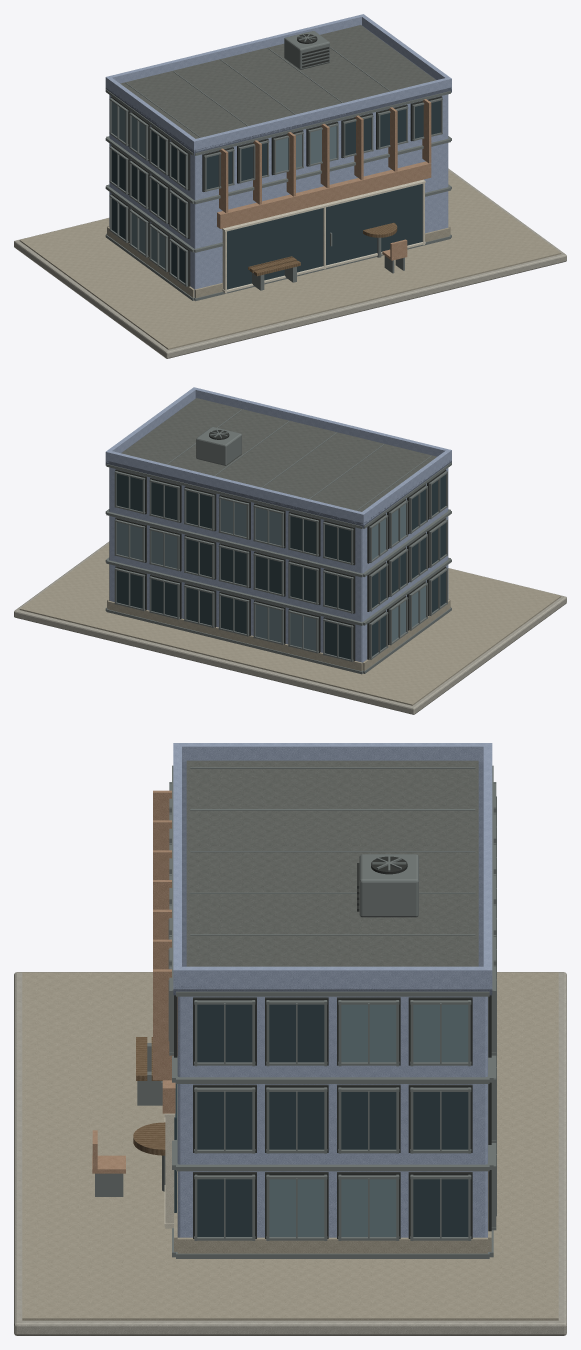
Rendered from EXP_SHOP_DESIGN.glb.
The picture shows the model from 3 angles, top to bottom: view 1: azimuth 30°, elevation 25°; view 2: azimuth 150°, elevation 25°; view 3: azimuth 270°, elevation 25°; orthographic projection. The views are drawn at different scales.
Parts seen in each view (by area): view 1: EXP_SHOP_DESIGN_Visual; view 2: EXP_SHOP_DESIGN_Visual; view 3: EXP_SHOP_DESIGN_Visual.
Part boxes in pixels (x1,y1,x2,y2): EXP_SHOP_DESIGN_Visual: [14, 14, 566, 358]; EXP_SHOP_DESIGN_Visual: [14, 387, 566, 714]; EXP_SHOP_DESIGN_Visual: [14, 743, 566, 1335].
Size of what is drawn, in the model's own units: 5.92 by 2.63 by 3.92.
Materials: 12 (8 with a texture image).
